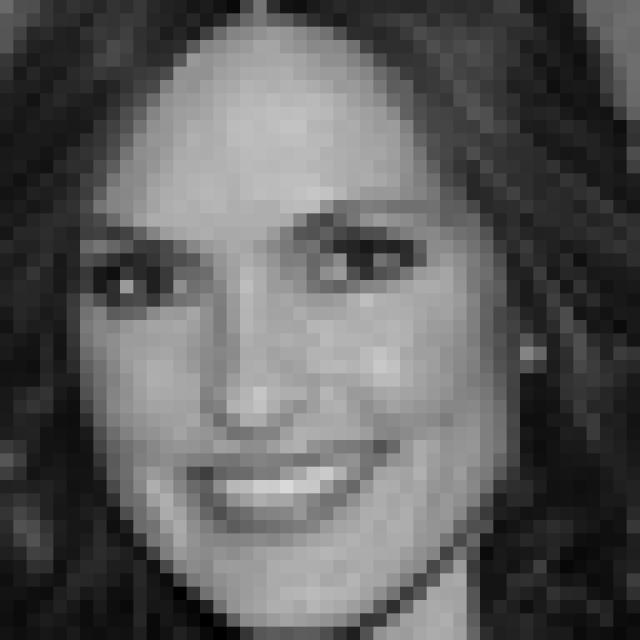happy: (79, 190, 466, 550)
